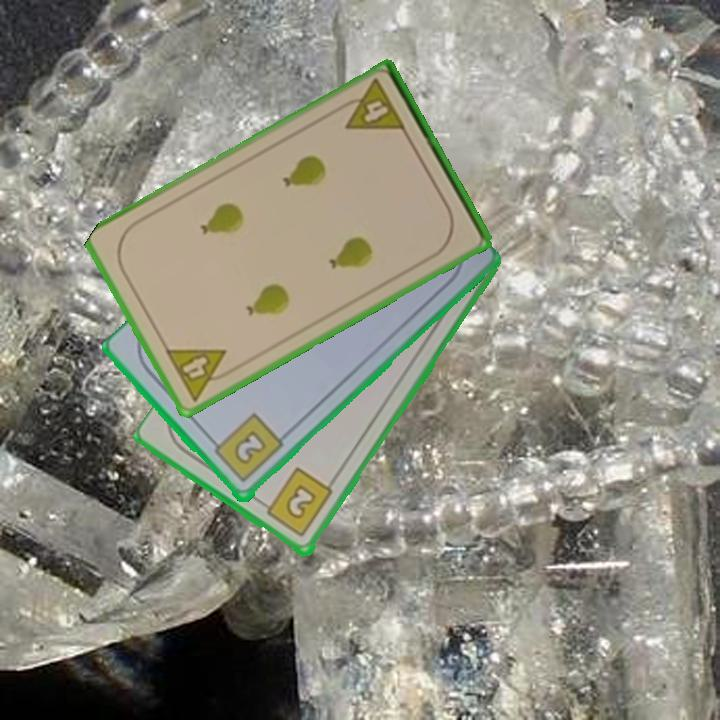2b: (206, 410, 286, 486), (257, 465, 336, 541)
4p: (161, 345, 239, 405), (333, 75, 409, 135)
